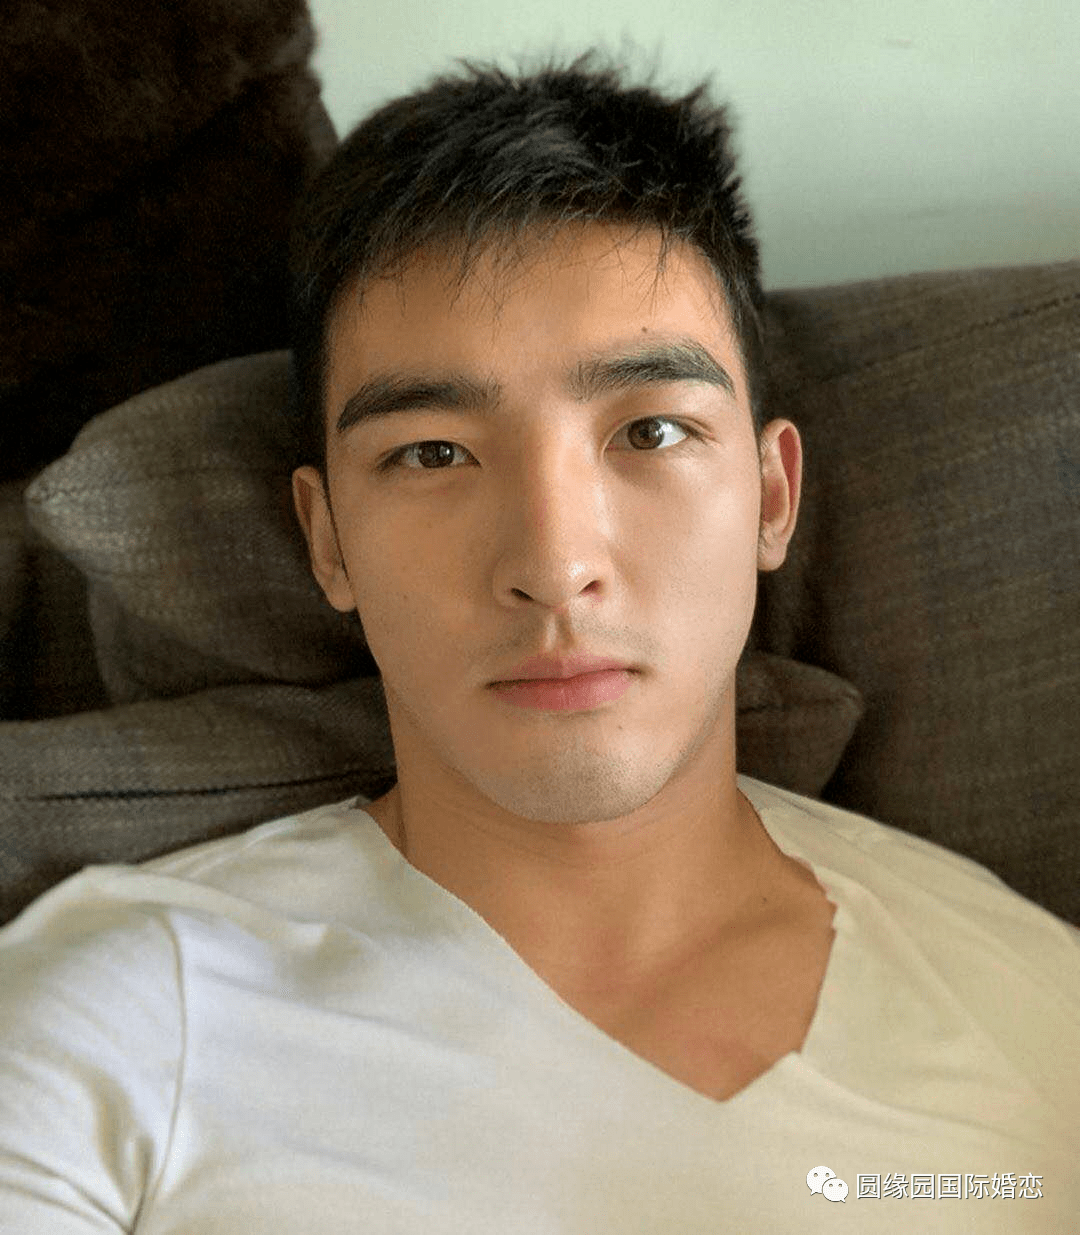person: (210, 100, 970, 1205)
